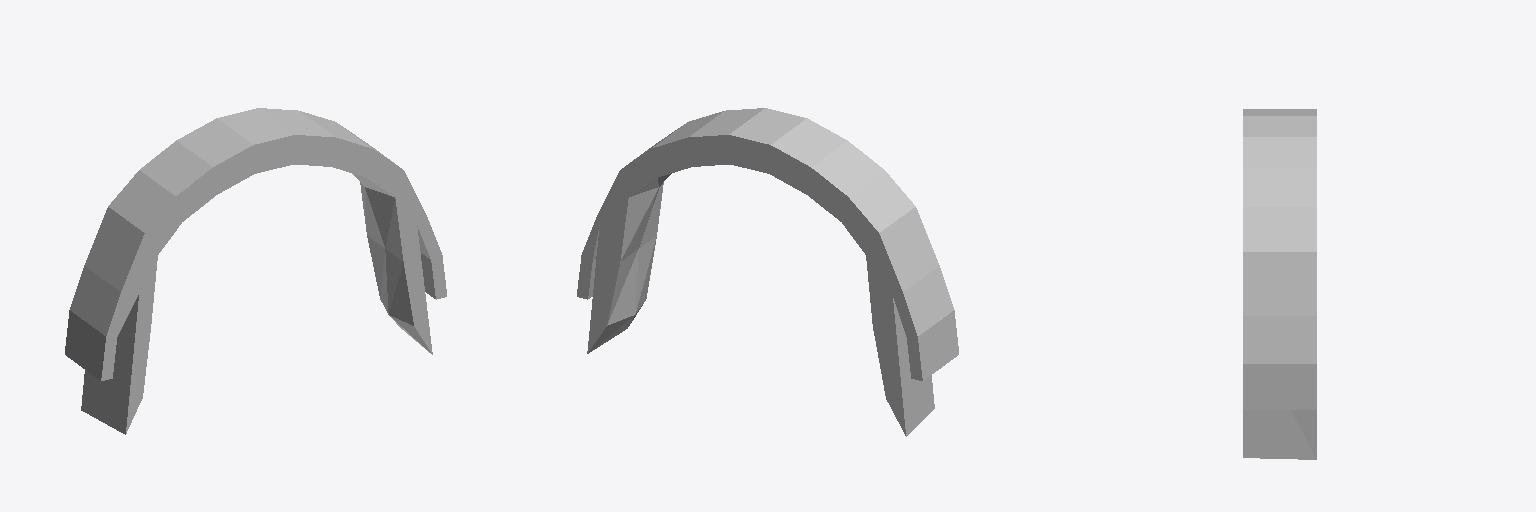
The model's file is Arch.obj.
3 renders of one model, left to right at view 1: azimuth 30°, elevation 25°; view 2: azimuth 150°, elevation 25°; view 3: azimuth 270°, elevation 25°, orthographic.
Visible parts, largest first — view 1: Arch; view 2: Arch; view 3: Arch.
Part boxes in pixels (x1,y1,x2,y2): Arch: (65, 108, 446, 434); Arch: (577, 108, 958, 436); Arch: (1243, 109, 1316, 459).
Size of the model in its own units: 30 by 21.44 by 5.5.